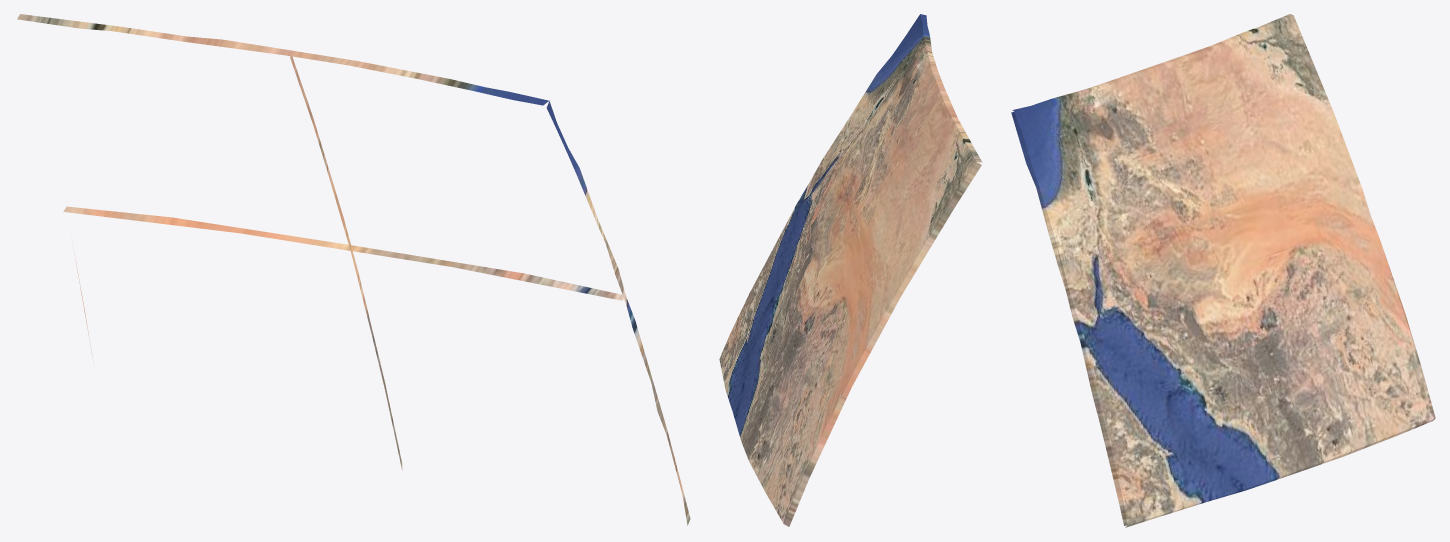
3 views of the same model, side by side, from view 1: azimuth 30°, elevation 25°; view 2: azimuth 150°, elevation 25°; view 3: azimuth 270°, elevation 25° (orthographic). The views are drawn at different scales.
Bounding box in the file's own units: 1167063 × 1117041 × 1236797.
1 material, 1 textured.
